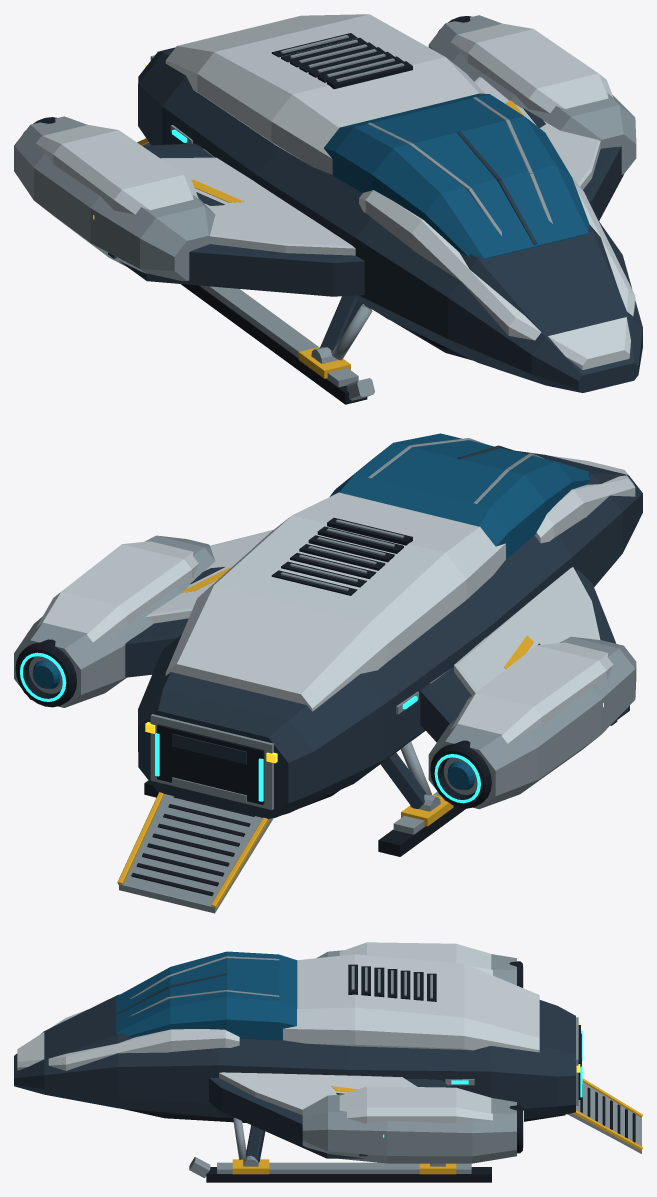
Rendered from spacecraft_docked_shuttle.glb.
3 views of the same model, one above another, from view 1: azimuth 30°, elevation 25°; view 2: azimuth 150°, elevation 25°; view 3: azimuth 270°, elevation 25° (orthographic). The views are drawn at different scales.
Parts seen in each view (by area): view 1: Armored fuselage and forward chin, Faceted multispectral cockpit glazing, Port wing thruster and navigation lamps, Port swept wing, elevon, and surface markings, Starboard wing thruster and navigation lamps, Port deployed landing gear and contact skid, Dorsal cooling and forward sensor array, Starboard swept wing, elevon, and surface markings; view 2: Armored fuselage and forward chin, Port wing thruster and navigation lamps, Aft pressure hatch and boarding ramp, Starboard wing thruster and navigation lamps, Faceted multispectral cockpit glazing, Port swept wing, elevon, and surface markings, Dorsal cooling and forward sensor array, Starboard swept wing, elevon, and surface markings, Port deployed landing gear and contact skid; view 3: Armored fuselage and forward chin, Starboard wing thruster and navigation lamps, Faceted multispectral cockpit glazing, Starboard swept wing, elevon, and surface markings, Starboard deployed landing gear and contact skid, Port wing thruster and navigation lamps, Aft pressure hatch and boarding ramp, Dorsal cooling and forward sensor array.
Boxes of the visible parts, left/top/right/bottom form: Armored fuselage and forward chin: left=138, top=14, right=642, bottom=392; Faceted multispectral cockpit glazing: left=324, top=93, right=590, bottom=259; Port wing thruster and navigation lamps: left=14, top=116, right=215, bottom=280; Port swept wing, elevon, and surface markings: left=119, top=143, right=364, bottom=296; Starboard wing thruster and navigation lamps: left=428, top=15, right=636, bottom=174; Port deployed landing gear and contact skid: left=181, top=284, right=374, bottom=404; Dorsal cooling and forward sensor array: left=271, top=33, right=412, bottom=89; Starboard swept wing, elevon, and surface markings: left=474, top=77, right=623, bottom=220; Armored fuselage and forward chin: left=138, top=450, right=642, bottom=819; Port wing thruster and navigation lamps: left=396, top=636, right=636, bottom=809; Aft pressure hatch and boarding ramp: left=117, top=714, right=277, bottom=913; Starboard wing thruster and navigation lamps: left=14, top=535, right=215, bottom=707; Faceted multispectral cockpit glazing: left=329, top=433, right=590, bottom=559; Port swept wing, elevon, and surface markings: left=420, top=567, right=629, bottom=742; Dorsal cooling and forward sensor array: left=271, top=517, right=412, bottom=595; Starboard swept wing, elevon, and surface markings: left=125, top=530, right=272, bottom=677; Port deployed landing gear and contact skid: left=378, top=741, right=466, bottom=856; Armored fuselage and forward chin: left=14, top=954, right=575, bottom=1122; Starboard wing thruster and navigation lamps: left=302, top=1079, right=523, bottom=1163; Faceted multispectral cockpit glazing: left=116, top=951, right=297, bottom=1040; Starboard swept wing, elevon, and surface markings: left=209, top=1072, right=450, bottom=1158; Starboard deployed landing gear and contact skid: left=189, top=1118, right=491, bottom=1182; Port wing thruster and navigation lamps: left=316, top=942, right=523, bottom=988; Aft pressure hatch and boarding ramp: left=567, top=1017, right=642, bottom=1153; Dorsal cooling and forward sensor array: left=348, top=964, right=436, bottom=1001.
Bounding box in the file's own units: 12 × 5.2 × 18.
